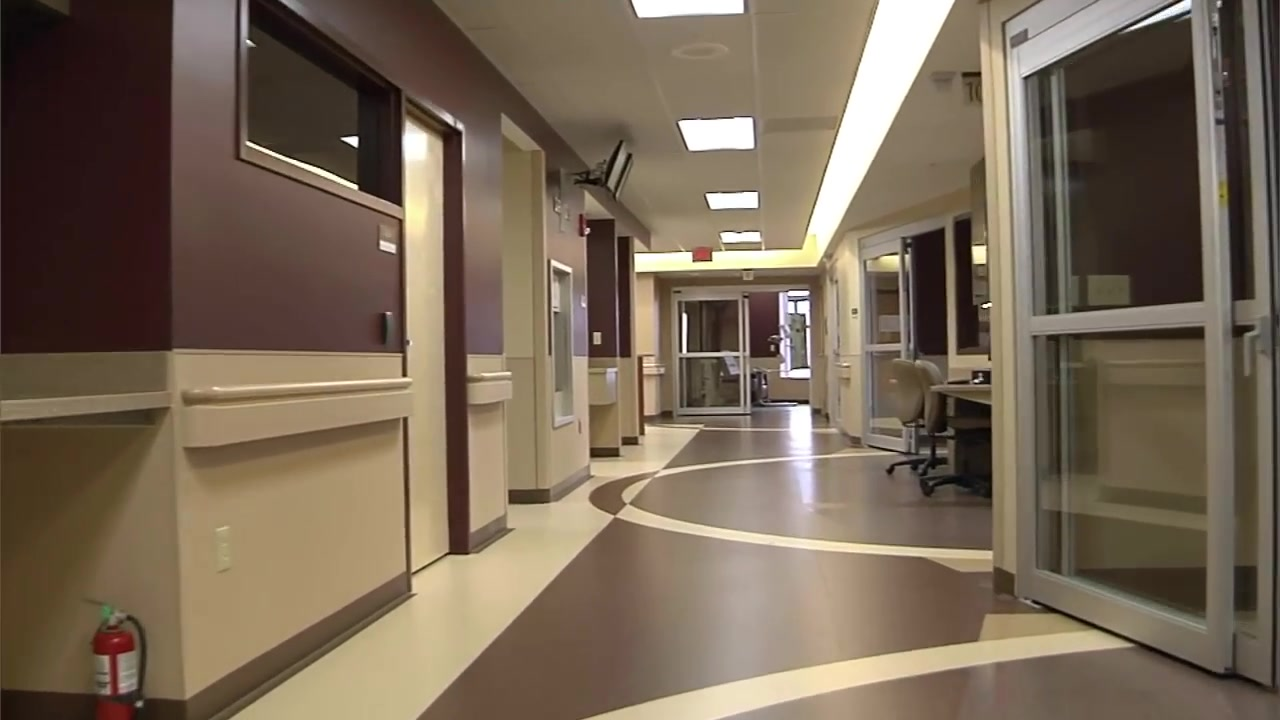TV: (603, 139, 629, 193), (613, 152, 633, 203)
chair: (915, 359, 993, 500), (886, 359, 943, 480)
countertop: (1, 385, 174, 426), (592, 357, 622, 384)
door_handle: (1244, 335, 1257, 378)
hallway_assist_bar: (178, 376, 413, 405), (468, 371, 513, 380), (642, 362, 666, 367), (833, 362, 853, 368)
sofa: (702, 341, 762, 408)
